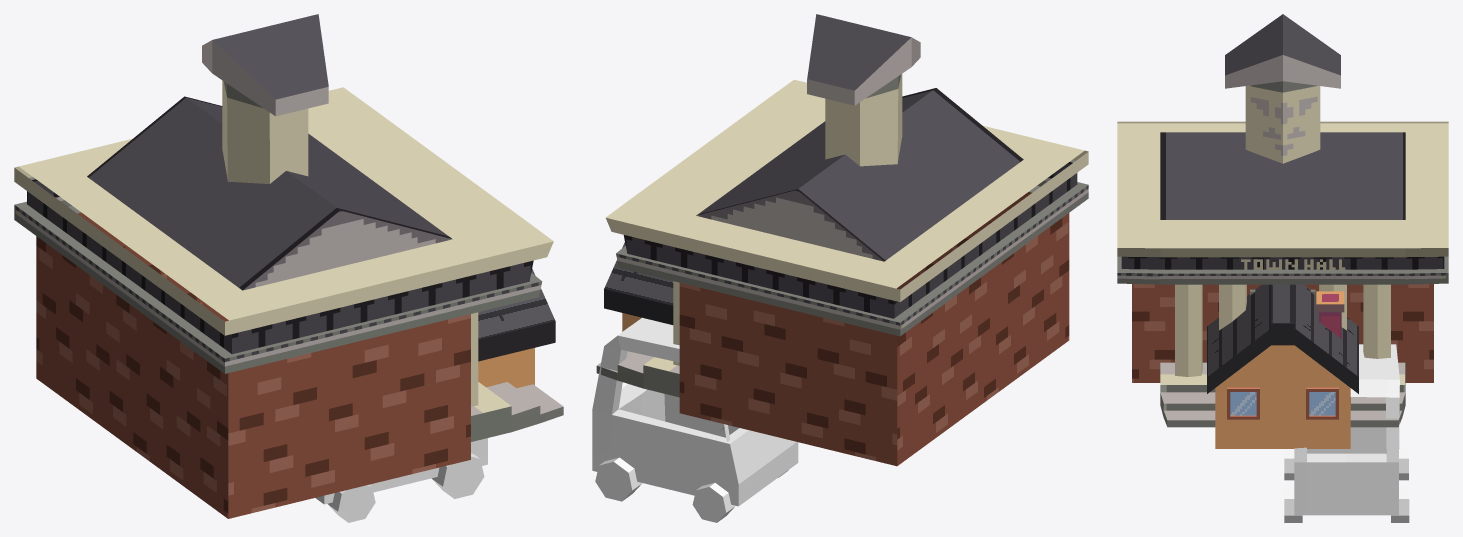
Rendered from townhall.glb.
The picture shows the model from 3 angles, left to right: view 1: azimuth 30°, elevation 25°; view 2: azimuth 150°, elevation 25°; view 3: azimuth 270°, elevation 25°; orthographic projection. The views are drawn at different scales.
Parts seen in each view (by area): view 1: townhall, house, car; view 2: townhall, car, house; view 3: townhall, house, car.
Part boxes in pixels (bbox=[...]): townhall: bbox=[14, 14, 563, 518]; house: bbox=[478, 268, 555, 388]; car: bbox=[315, 438, 487, 522]; townhall: bbox=[596, 14, 1088, 466]; car: bbox=[592, 317, 798, 522]; house: bbox=[604, 242, 673, 331]; townhall: bbox=[1117, 14, 1448, 427]; house: bbox=[1207, 284, 1358, 448]; car: bbox=[1284, 344, 1409, 522].
Bounding box in the file's own units: 15.61 × 19.98 × 14.69.
3 materials, 3 textured.
